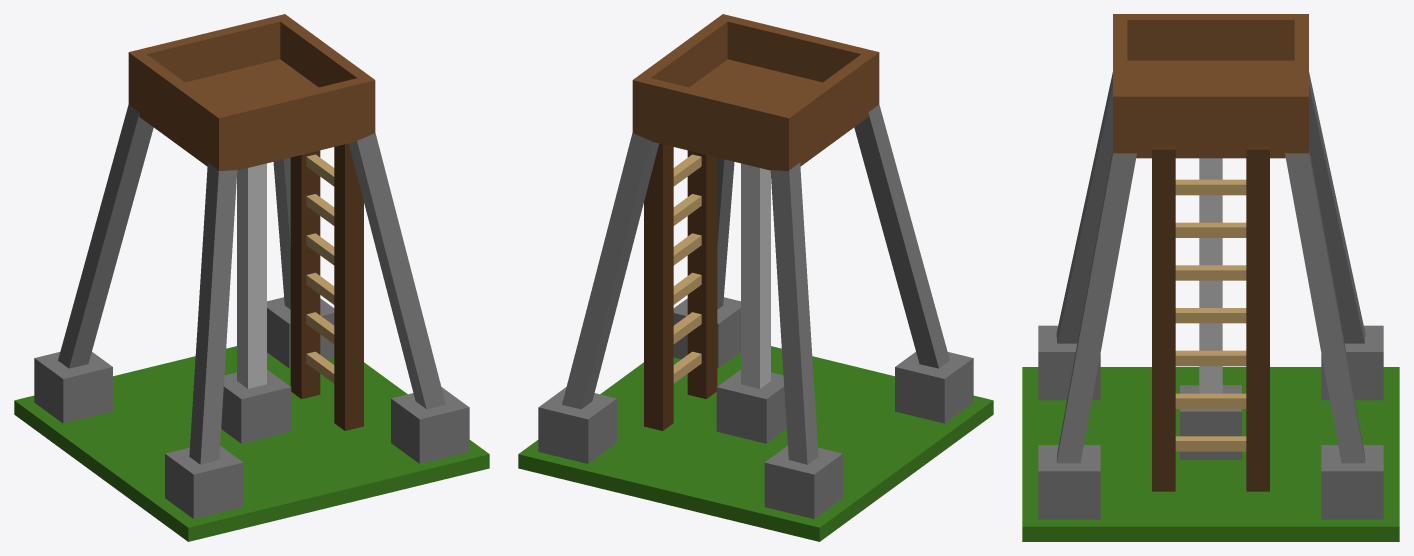
The model's file is lvl9.glb.
3 views of the same model, side by side, from view 1: azimuth 30°, elevation 25°; view 2: azimuth 150°, elevation 25°; view 3: azimuth 270°, elevation 25° (orthographic). The views are drawn at different scales.
Parts seen in each view (by area): view 1: Plane.008; view 2: Plane.008; view 3: Plane.008.
Part boxes in pixels (x1,y1,x2,y2): Plane.008: [14, 14, 489, 541]; Plane.008: [518, 14, 993, 541]; Plane.008: [1022, 14, 1399, 541].
Bounding box in the file's own units: 4 × 4.76 × 4.
